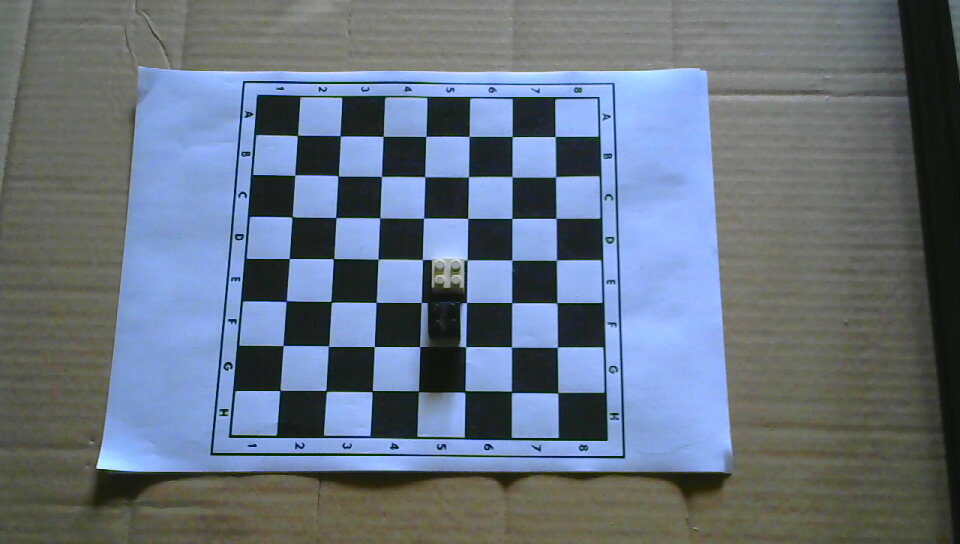bp: (428, 300, 462, 341)
wp: (429, 255, 466, 294)
